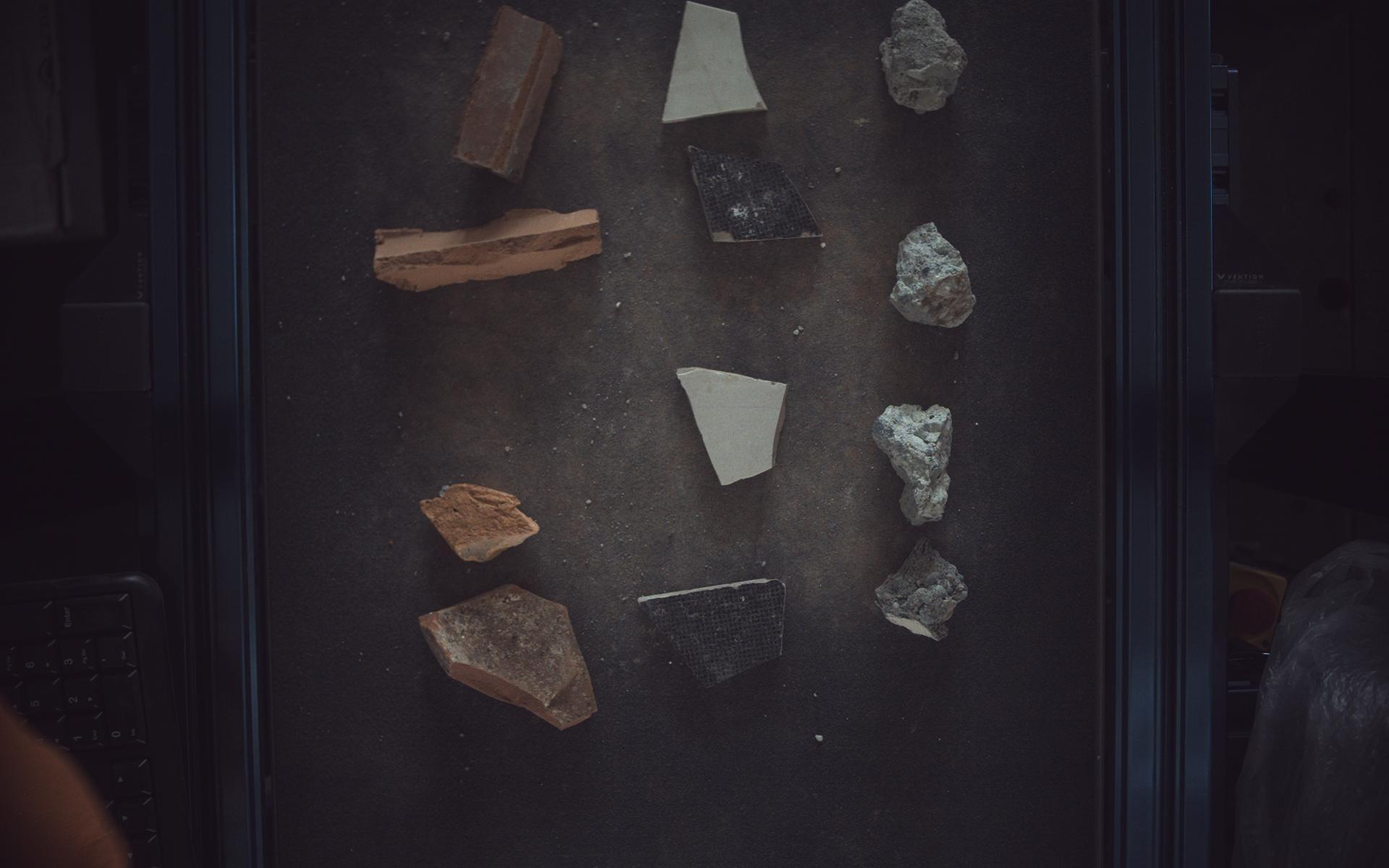brick: (420, 585, 598, 731), (453, 4, 563, 182), (373, 208, 603, 291), (420, 484, 540, 563)
concrete: (881, 1, 969, 113), (874, 405, 953, 526), (878, 539, 970, 642), (892, 222, 978, 328)
tile: (639, 580, 786, 689), (678, 367, 789, 485), (689, 145, 823, 242), (663, 1, 768, 122)
